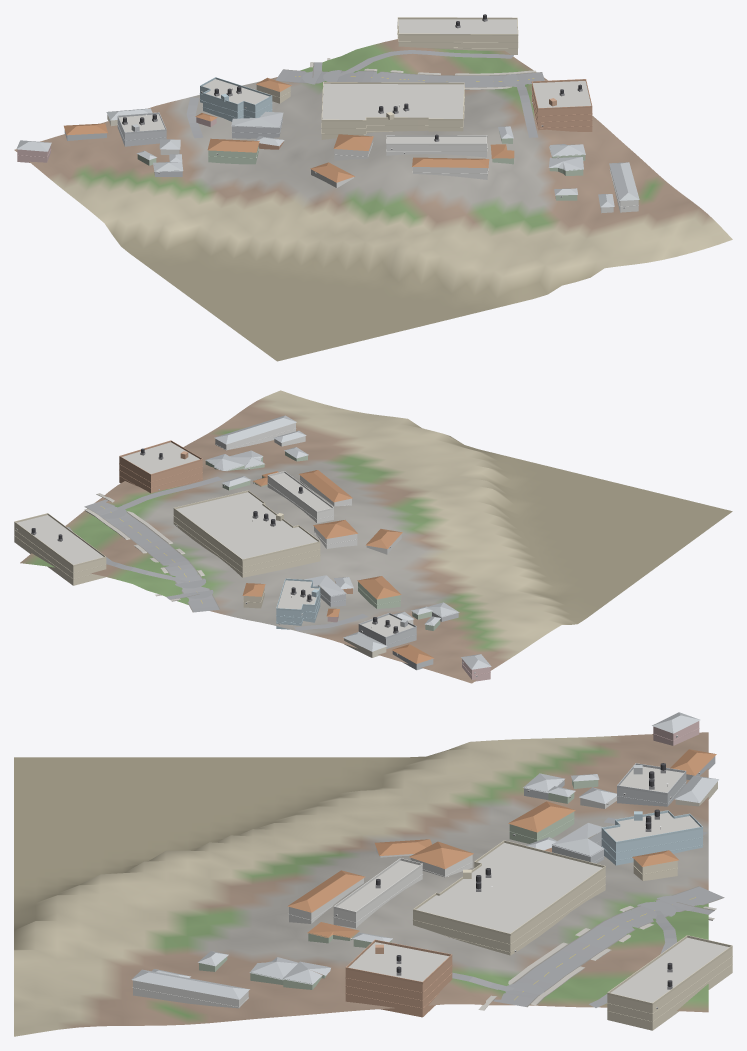
3 renders of one model, top to bottom at view 1: azimuth 30°, elevation 25°; view 2: azimuth 150°, elevation 25°; view 3: azimuth 270°, elevation 25°, orthographic. The views are drawn at different scales.
Parts seen in each view (by area): view 1: Terrain-col, Buildings-col, Details, Roads-col; view 2: Terrain-col, Buildings-col, Details, Roads-col, Sidewalks-col; view 3: Terrain-col, Buildings-col, Details, Roads-col, Sidewalks-col.
Part boxes in pixels (<box>): Terrain-col: <box>14,39,732,361</box>; Buildings-col: <box>16,19,639,213</box>; Details: <box>17,14,638,208</box>; Roads-col: <box>186,50,544,138</box>; Terrain-col: <box>20,390,732,683</box>; Buildings-col: <box>14,415,491,681</box>; Details: <box>14,428,490,676</box>; Roads-col: <box>67,476,368,630</box>; Sidewalks-col: <box>84,493,204,601</box>; Terrain-col: <box>14,732,708,1036</box>; Buildings-col: <box>131,712,732,1030</box>; Details: <box>132,728,732,1022</box>; Roads-col: <box>452,817,724,1007</box>; Sidewalks-col: <box>478,906,716,1010</box>.
Size of the model in its own units: 276 by 32.29 by 265.
